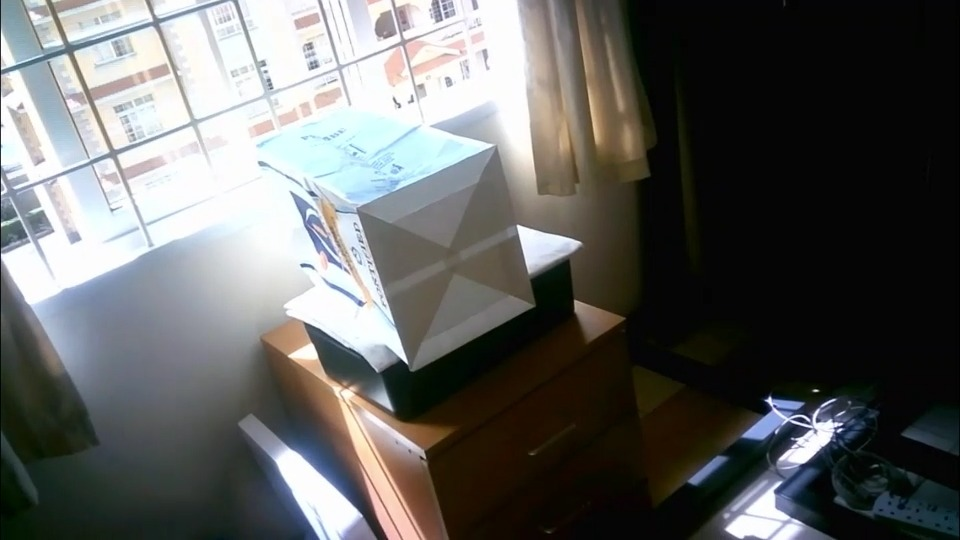wheat_flour_blue_label: (258, 109, 533, 368)
